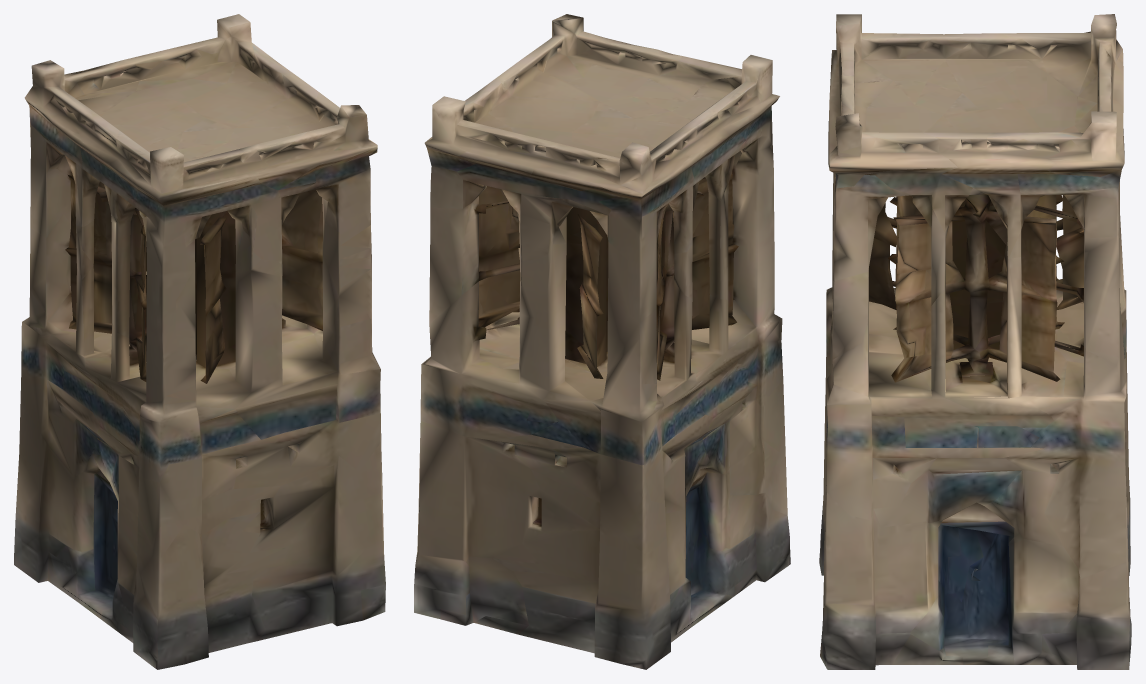
File: windmill_asbad_2.glb
3 renders of one model, left to right at view 1: azimuth 30°, elevation 25°; view 2: azimuth 150°, elevation 25°; view 3: azimuth 270°, elevation 25°, orthographic. The views are drawn at different scales.
Parts seen in each view (by area): view 1: tripo_node_becd3683-fbf9-4524-8b07-bb78623aa53b; view 2: tripo_node_becd3683-fbf9-4524-8b07-bb78623aa53b; view 3: tripo_node_becd3683-fbf9-4524-8b07-bb78623aa53b.
Boxes of the visible parts, left/top/right/bottom form: tripo_node_becd3683-fbf9-4524-8b07-bb78623aa53b: left=14, top=14, right=385, bottom=669; tripo_node_becd3683-fbf9-4524-8b07-bb78623aa53b: left=414, top=14, right=790, bottom=669; tripo_node_becd3683-fbf9-4524-8b07-bb78623aa53b: left=819, top=14, right=1131, bottom=669.
Bounding box in the file's own units: 0.4699 × 0.9777 × 0.5117.
1 material, 1 textured.
